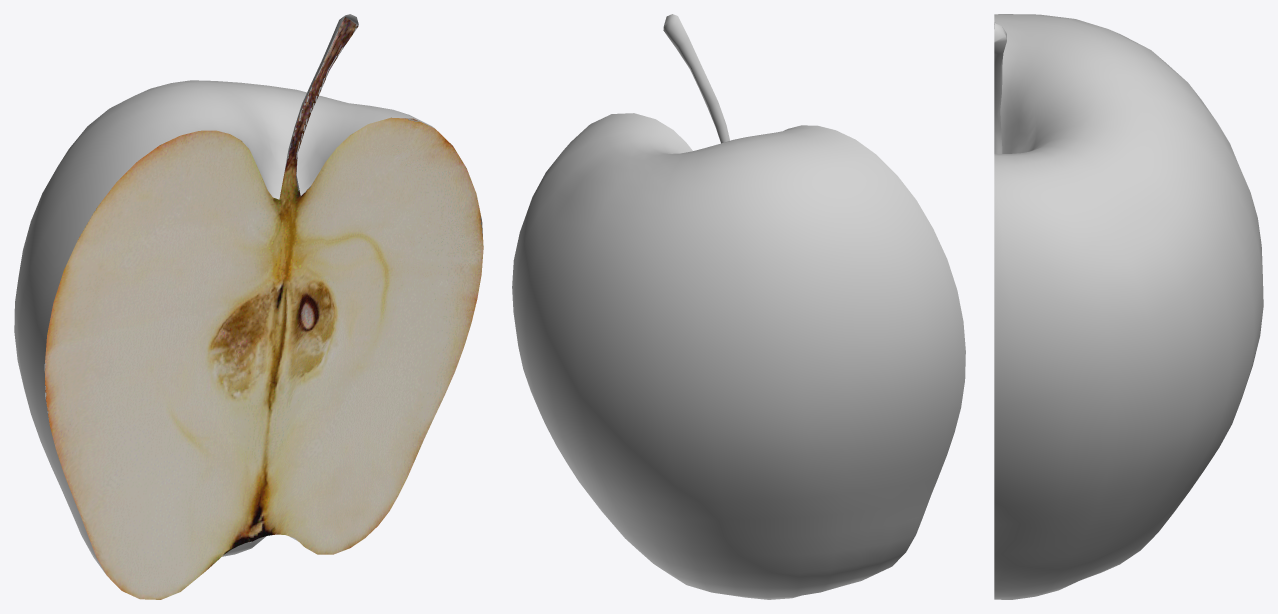
The model's file is Apple-05.fbx.
The picture shows the model from 3 angles, left to right: view 1: azimuth 30°, elevation 25°; view 2: azimuth 150°, elevation 25°; view 3: azimuth 270°, elevation 25°; orthographic projection. The views are drawn at different scales.
Visible parts, largest first — view 1: Apple; view 2: Apple; view 3: Apple.
Part boxes in pixels (x1,y1,x2,y2): Apple: (14, 14, 483, 599); Apple: (512, 14, 965, 599); Apple: (994, 14, 1263, 599).
Size of the model in its own units: 28.88 by 34.22 by 14.22.
